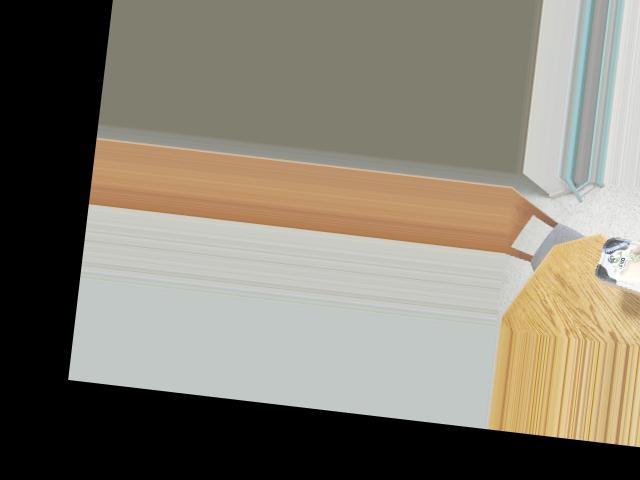cheese: (591, 234, 640, 294)
